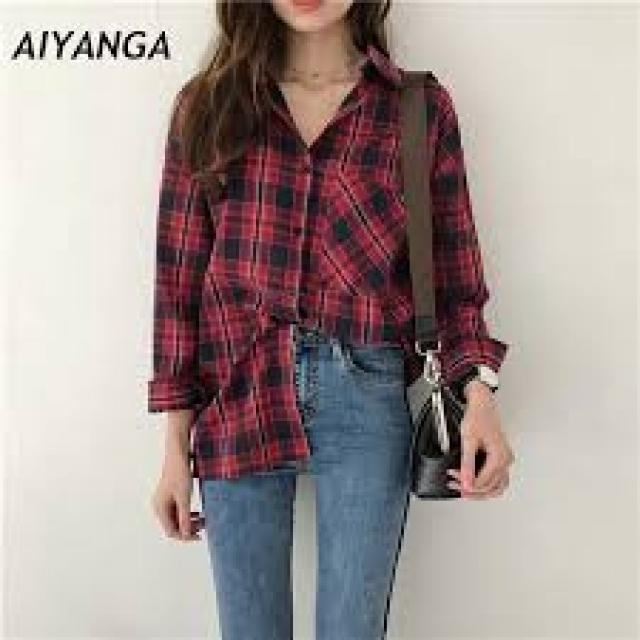plaid: (130, 70, 510, 478)
